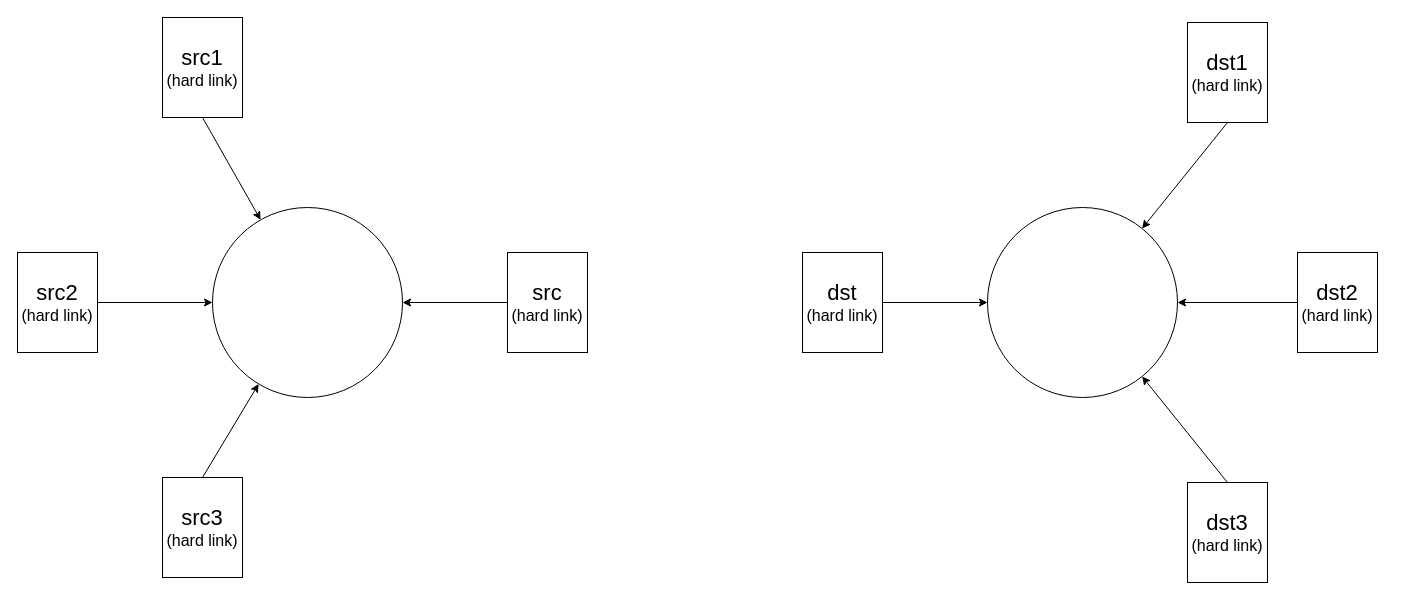
The diagram is 1403 pixels wide and 600 high, and some of its shapes have lost their labels. The shapes that lost their labels are listed below. From the top down, each one's centre as x and y in pixels, then its label:
At (x=307, y=302): "Data1".
At (x=1082, y=302): "Data2".
